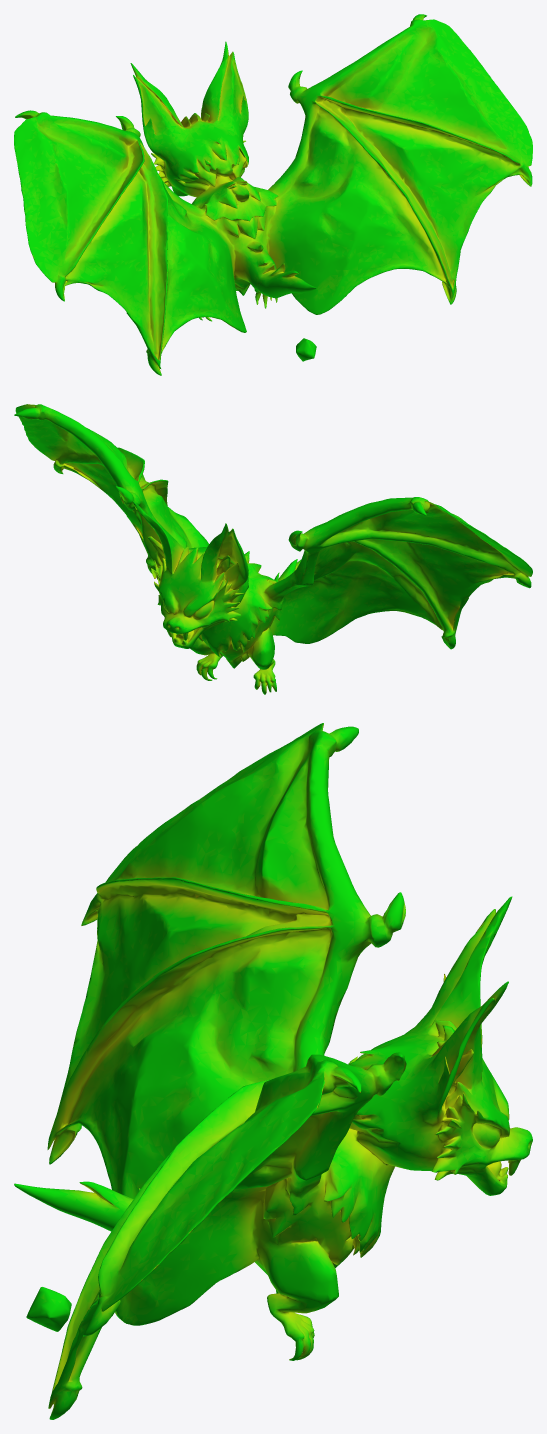
File: cavebat_outline.fbx
3 renders of one model, top to bottom at view 1: azimuth 30°, elevation 25°; view 2: azimuth 150°, elevation 25°; view 3: azimuth 270°, elevation 25°, orthographic. The views are drawn at different scales.
Visible parts, largest first — view 1: cavebat_outline; view 2: cavebat_outline; view 3: cavebat_outline.
Part boxes in pixels (bbox=[...]): cavebat_outline: bbox=[14, 14, 532, 375]; cavebat_outline: bbox=[14, 404, 532, 694]; cavebat_outline: bbox=[14, 723, 532, 1419].
Size of the model in its own units: 386 by 180 by 193.
